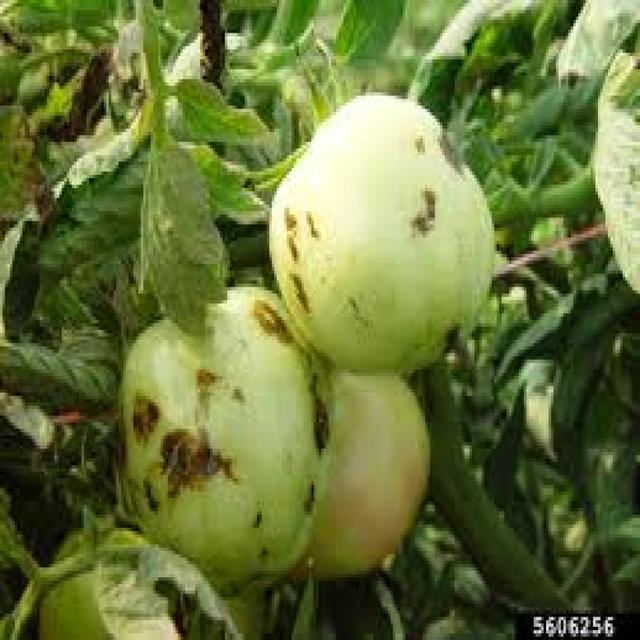Spotted wilt Virus Fruit: (144, 157, 255, 292)
